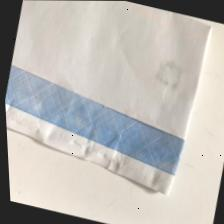paper: (0, 0, 218, 211)
